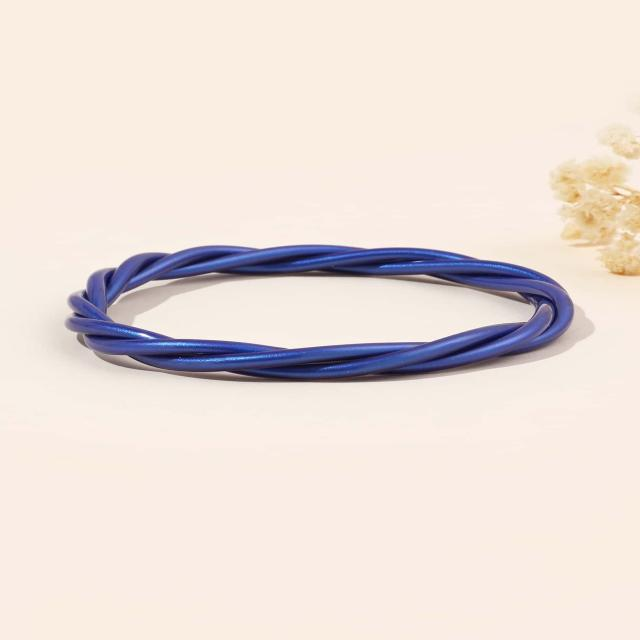bracelet: (24, 168, 640, 442)
